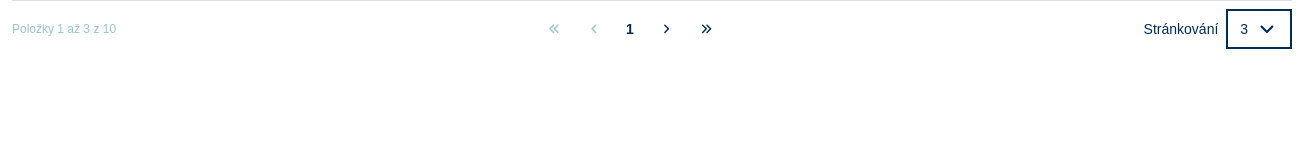
Test case: components/common/Paging › should be navigable
Expected: the text "Položky 1 až 3 z 10" is shown, [12,22,116,36]
Expected: the text "1" is shown, [626,21,634,37]
go to next page
Click the button titled "Další". click: click(666, 29)
box: [650,13,682,45]
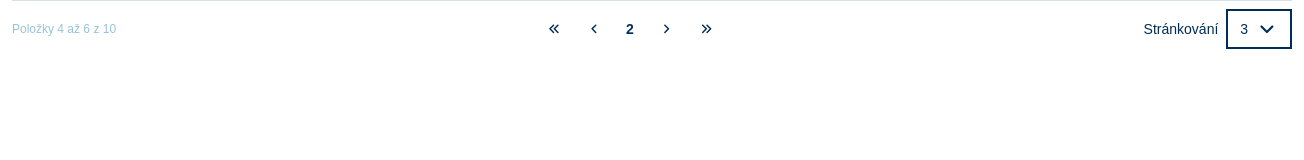
Expected: the text "Položky 4 až 6 z 10" is shown, [12,22,116,36]
Expected: the text "2" is shown, [626,21,634,37]
go to last page
Click the button titled "Na konec". click: click(706, 29)
box: [690,13,722,45]
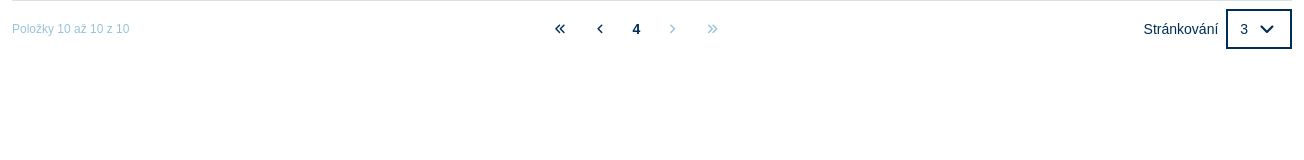
Expected: the text "Položky 10 až 10 z 10" is shown, [12,22,129,36]
Expected: the text "4" is shown, [633,21,640,37]
go to first page
Click the button titled "Na začátek". click: click(560, 29)
box: [544,13,576,45]
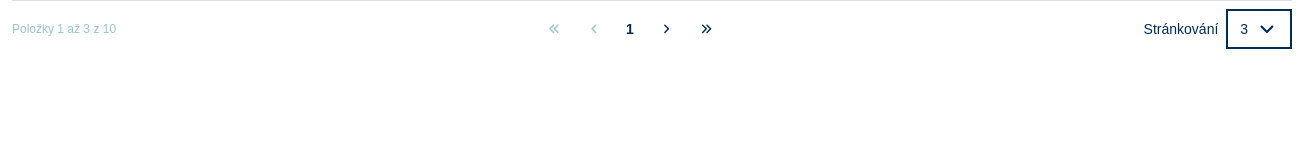
Expected: the text "Položky 1 až 3 z 10" is shown, [12,22,116,36]
Expected: the text "1" is shown, [626,21,634,37]
